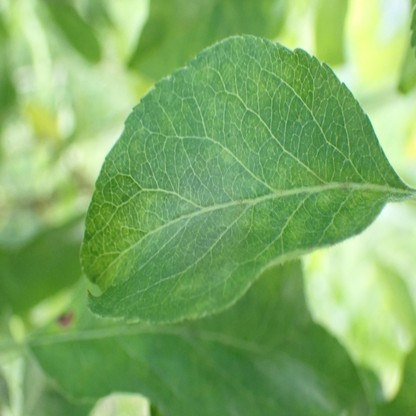frogeye_leaf_spot: (54, 312, 73, 329)
scab: (83, 39, 386, 313)
